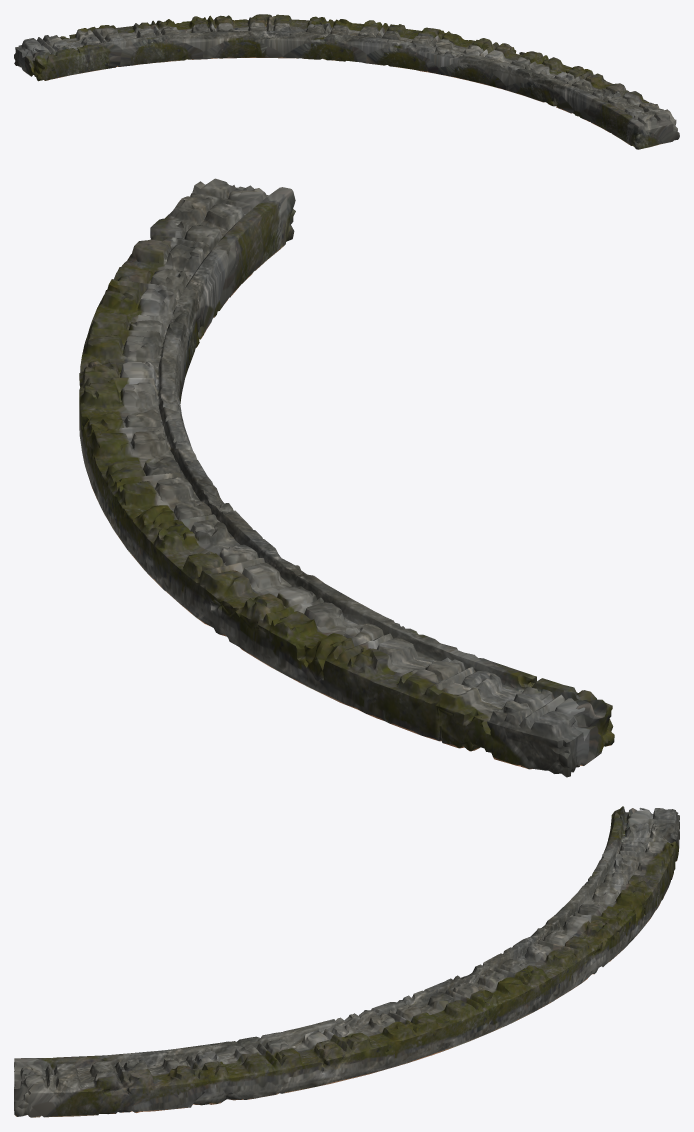
The model's file is SM_StonePattern_E.fbx.
3 views of the same model, one above another, from view 1: azimuth 30°, elevation 25°; view 2: azimuth 150°, elevation 25°; view 3: azimuth 270°, elevation 25° (orthographic). The views are drawn at different scales.
Visible parts, largest first — view 1: SM_StonePattern_E_LOD0; view 2: SM_StonePattern_E_LOD0; view 3: SM_StonePattern_E_LOD0.
Boxes of the visible parts, x1,y1,x2,y2 form: SM_StonePattern_E_LOD0: (14, 14, 679, 149); SM_StonePattern_E_LOD0: (79, 178, 614, 777); SM_StonePattern_E_LOD0: (14, 806, 679, 1117).
Bounding box in the file's own units: 392 × 392 × 21.42.
